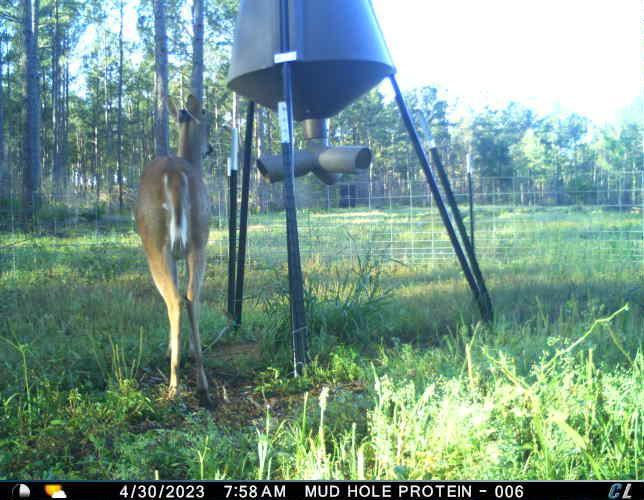Deer: (131, 92, 216, 412)
